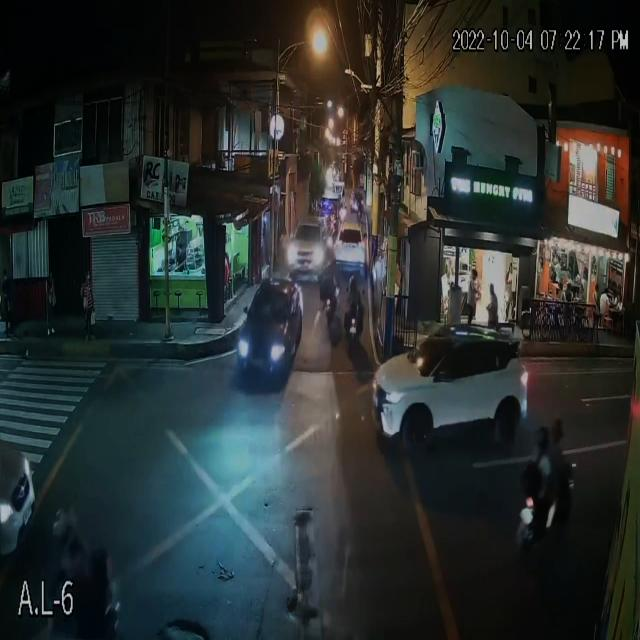Full-Faced: (552, 414, 565, 441), (535, 425, 548, 450)
